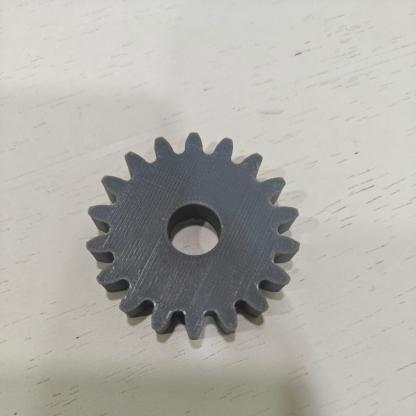gear: (74, 120, 338, 375)
